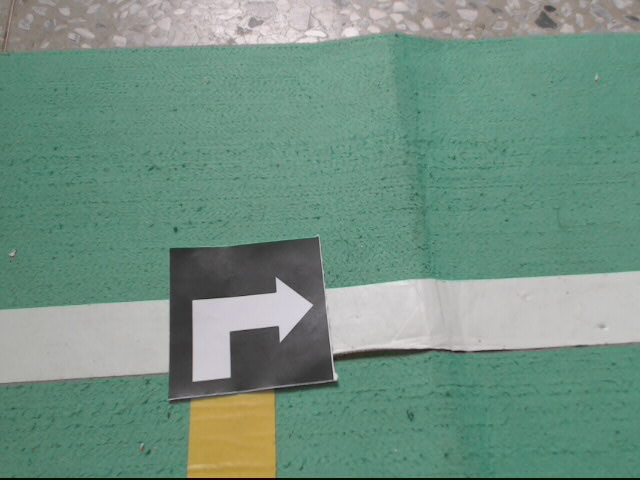right: (167, 237, 346, 401)
